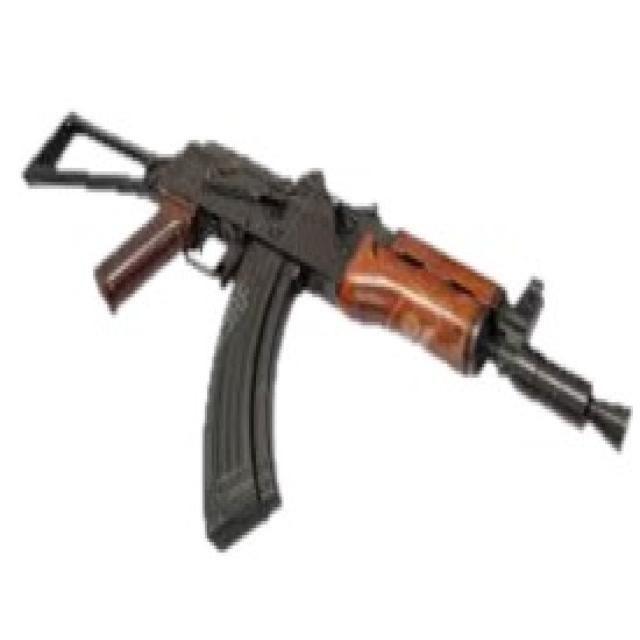rifle: (19, 88, 637, 569)
